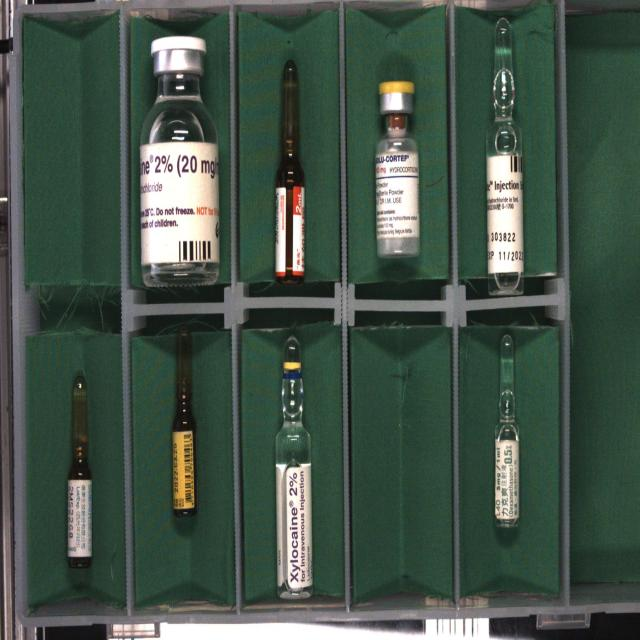Vials: (140, 36, 219, 286), (375, 81, 420, 258)
